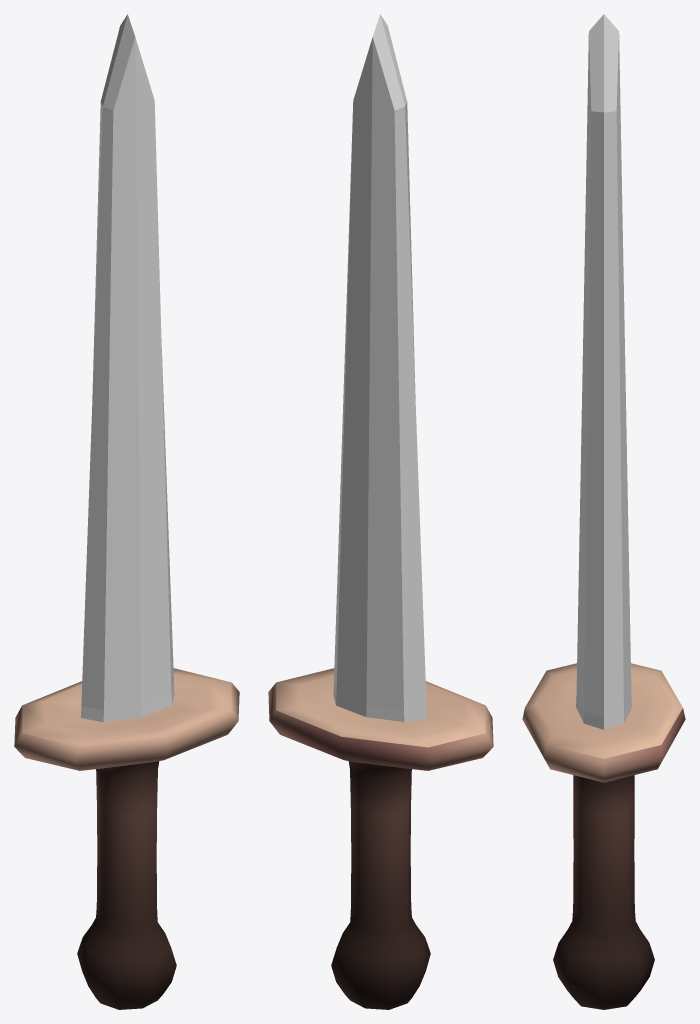
File: MS_Enemy01_Sword01.fbx
The picture shows the model from 3 angles, left to right: view 1: azimuth 30°, elevation 25°; view 2: azimuth 150°, elevation 25°; view 3: azimuth 270°, elevation 25°; orthographic projection.
Parts seen in each view (by area): view 1: MS_Enemy01_Sword01; view 2: MS_Enemy01_Sword01; view 3: MS_Enemy01_Sword01.
Boxes of the visible parts, x1=… form: MS_Enemy01_Sword01: x1=14, y1=14, x2=239, y2=1009; MS_Enemy01_Sword01: x1=268, y1=14, x2=493, y2=1009; MS_Enemy01_Sword01: x1=522, y1=14, x2=685, y2=1009.
Size of the model in its own units: 40.33 by 169 by 25.3.
